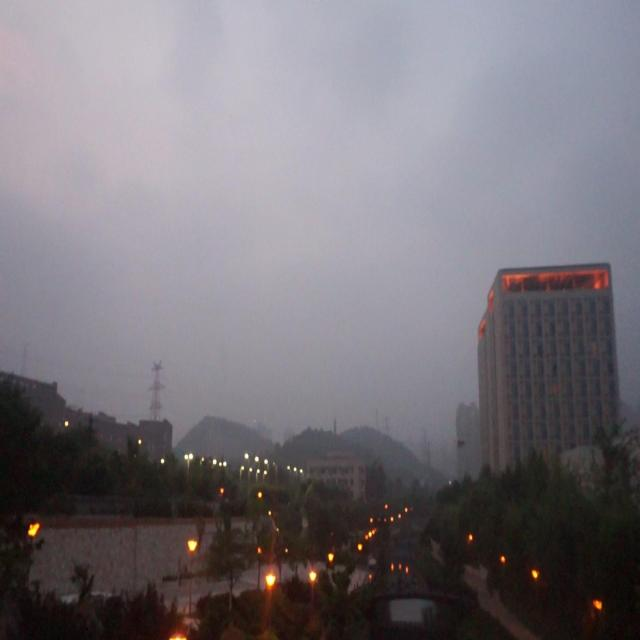drone: (453, 431, 469, 453)
